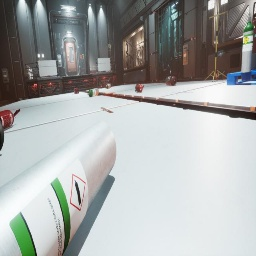0: (0, 120, 116, 256), (241, 12, 254, 73), (87, 88, 99, 97), (106, 84, 111, 89)
EmergencyPhone ,: (5, 84, 9, 90), (149, 64, 151, 71), (82, 53, 84, 59), (83, 55, 84, 56), (150, 66, 151, 67)
FireAlarm ,: (80, 55, 82, 59)
FireExtinguisher ]: (0, 109, 20, 130), (135, 84, 144, 93), (100, 85, 103, 88)
FirstAidBox ,: (74, 86, 79, 94), (105, 82, 111, 88)
NitrogenTank ,: (251, 13, 256, 70), (214, 70, 228, 80), (0, 120, 4, 151), (165, 76, 177, 86)
SafetySwitchPanel ,: (183, 44, 190, 65), (1, 69, 9, 83), (57, 54, 62, 67)
